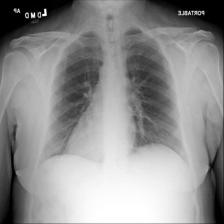normal: (36, 24, 194, 171)
